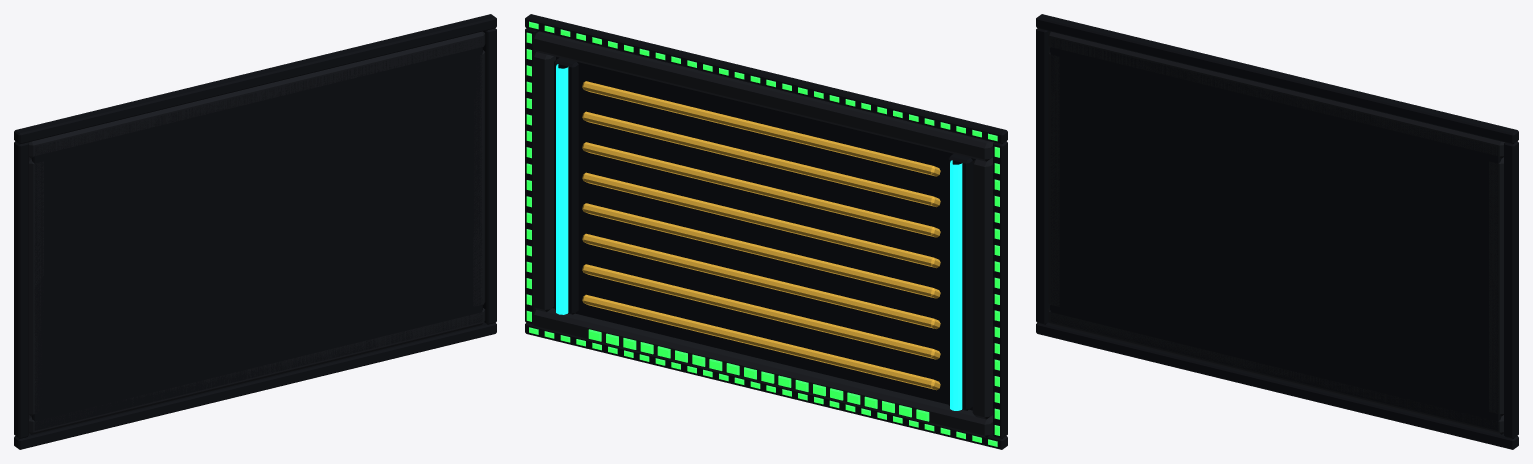
File: grille_slats_neon.glb
The picture shows the model from 3 angles, left to right: view 1: azimuth 30°, elevation 25°; view 2: azimuth 150°, elevation 25°; view 3: azimuth 330°, elevation 25°; orthographic projection.
Visible parts, largest first — view 1: grille_slats_neon_deco_trim, grille_slats_neon_deco_body; view 2: grille_slats_neon_deco_trim, grille_slats_neon_paint_gold, grille_slats_neon_deco_body, grille_slats_neon_deco_led, grille_slats_neon_deco_neon; view 3: grille_slats_neon_deco_trim, grille_slats_neon_deco_body.
Boxes of the visible parts, bbox=[...] form: grille_slats_neon_deco_trim: bbox=[14, 14, 496, 449]; grille_slats_neon_deco_body: bbox=[28, 31, 485, 434]; grille_slats_neon_deco_trim: bbox=[525, 14, 1007, 449]; grille_slats_neon_paint_gold: bbox=[582, 81, 940, 390]; grille_slats_neon_deco_body: bbox=[532, 31, 993, 437]; grille_slats_neon_deco_led: bbox=[526, 21, 999, 446]; grille_slats_neon_deco_neon: bbox=[556, 64, 962, 410]; grille_slats_neon_deco_trim: bbox=[1036, 14, 1518, 449]; grille_slats_neon_deco_body: bbox=[1047, 31, 1504, 434].
Size of the model in its own units: 1.36 by 0.86 by 0.066.
